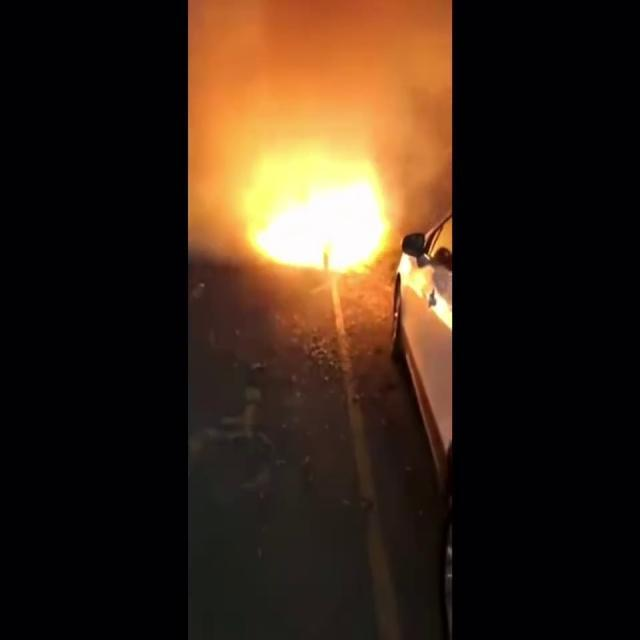Fire: (254, 171, 401, 269)
Smoke: (189, 0, 450, 191)
